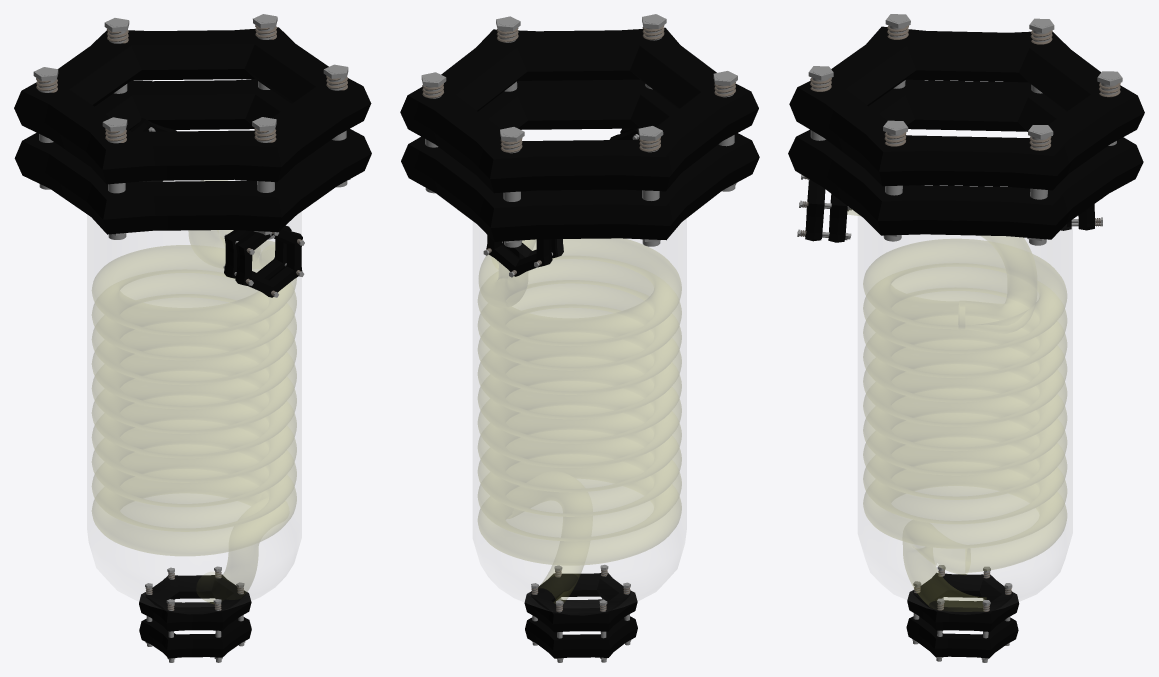
The model's file is ReBoiler.fbx.
3 renders of one model, left to right at view 1: azimuth 30°, elevation 25°; view 2: azimuth 150°, elevation 25°; view 3: azimuth 270°, elevation 25°, orthographic.
Visible parts, largest first — view 1: pHelix1, t1 (×2), t2 (×2), pCylinder1, top_cooler:t1, pCylinder2, top_cooler:t2, pCylinder3; view 2: pHelix1, t1 (×3), t2 (×2), pCylinder1, pCylinder2; view 3: pHelix1, t1 (×2), t2 (×2), pCylinder1, pCylinder2, pCylinder3, top_cooler:t1, top_cooler:t2.
Part boxes in pixels (x1,y1,x2,y2): pHelix1: (92, 245, 296, 555); t1 (×2): (14, 27, 371, 631); t2 (×2): (14, 79, 371, 658); pCylinder1: (87, 180, 301, 607); top_cooler:t1: (235, 228, 302, 297); pCylinder2: (188, 180, 274, 268); top_cooler:t2: (224, 225, 291, 279); pCylinder3: (202, 543, 258, 603); pHelix1: (478, 238, 681, 565); t1 (×3): (400, 27, 758, 632); t2 (×2): (401, 79, 759, 658); pCylinder1: (473, 219, 686, 609); pCylinder2: (479, 240, 535, 307); pHelix1: (863, 239, 1066, 572); t1 (×2): (789, 26, 1144, 631); t2 (×2): (788, 79, 1143, 658); pCylinder1: (858, 216, 1072, 608); pCylinder2: (958, 236, 1036, 332); pCylinder3: (903, 541, 986, 607); top_cooler:t1: (805, 180, 825, 241); top_cooler:t2: (828, 194, 847, 242).
Size of the model in its own units: 28.88 by 58.88 by 33.16.
